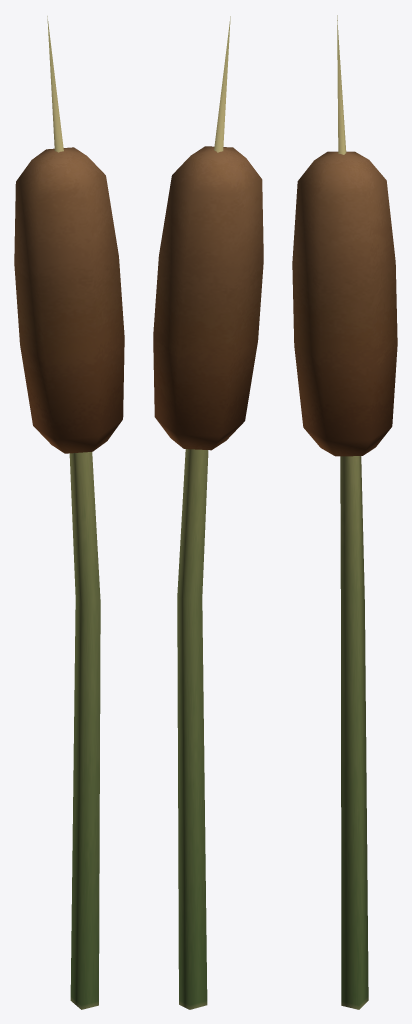
File: Cattail_1.glb
3 renders of one model, left to right at view 1: azimuth 30°, elevation 25°; view 2: azimuth 210°, elevation 25°; view 3: azimuth 330°, elevation 25°, orthographic.
Parts seen in each view (by area): view 1: Sphere.025, Cube.083; view 2: Sphere.025, Cube.083; view 3: Sphere.025, Cube.083.
Boxes of the visible parts, x1,y1,x2,y2 form: Sphere.025: [14, 147, 124, 453]; Cube.083: [47, 16, 100, 1009]; Sphere.025: [153, 146, 263, 450]; Cube.083: [177, 16, 230, 1009]; Sphere.025: [292, 151, 397, 456]; Cube.083: [337, 15, 368, 1009].
Size of the model in its own units: 0.0498 by 0.5634 by 0.0534.
Materials: 2 (2 with a texture image).
